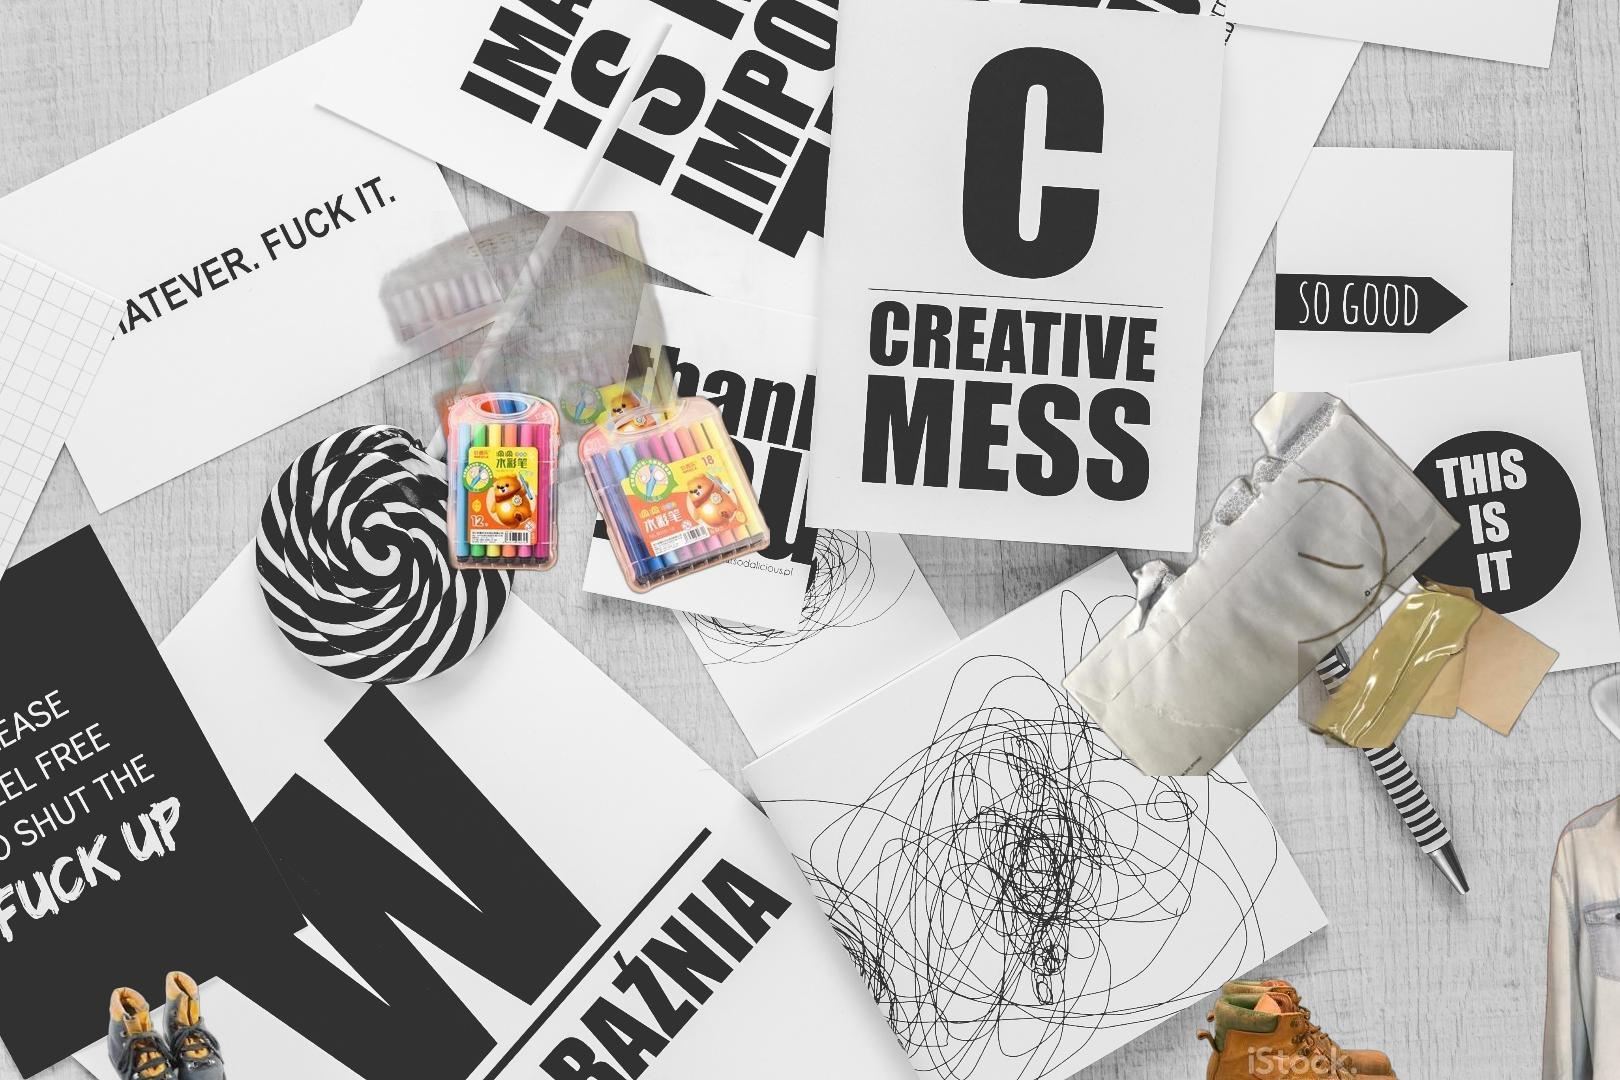clothes: (1538, 736, 1620, 1080)
paper: (1058, 392, 1466, 776)
paper-bag: (1401, 579, 1561, 739)
penholder: (370, 211, 770, 595)
shoes: (1195, 976, 1416, 1080), (105, 968, 231, 1080)
trash: (1581, 647, 1620, 858)
trashbox-cardboard: (1298, 430, 1620, 749)
